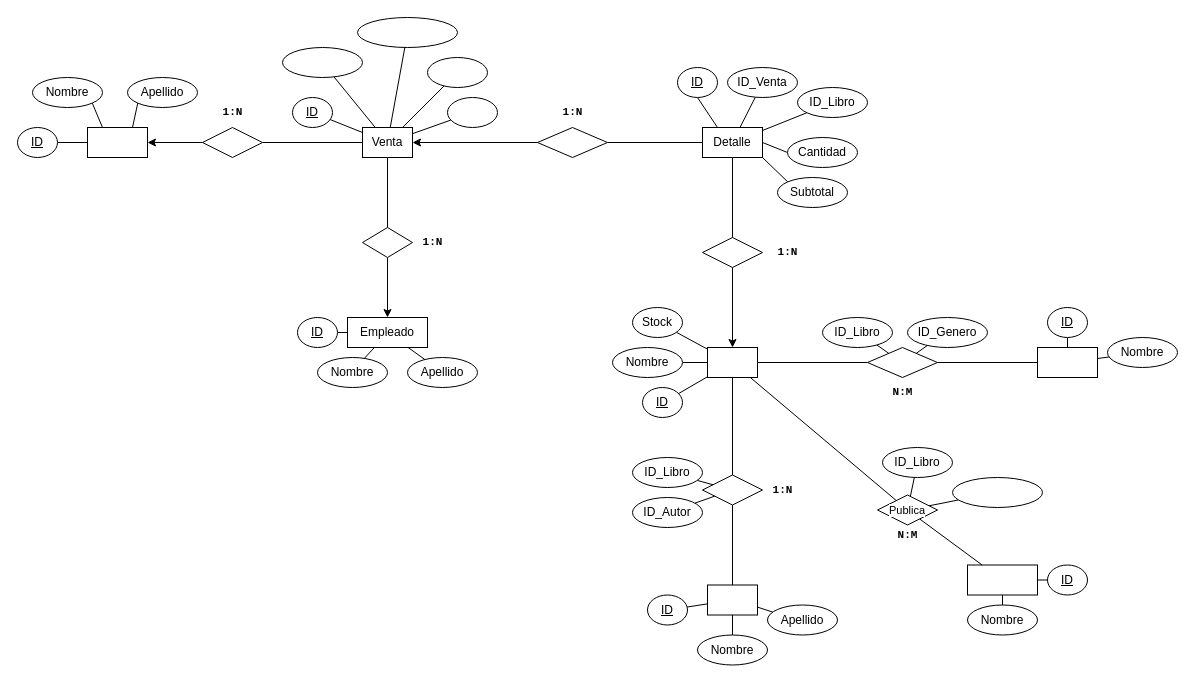
Image size: 1195x683. Some labels were removed from this diagram. The centre of each missing label's shape, as x and y in pixels:
"Autor" belongs at (732,599).
"Cliente" belongs at (117,142).
"Describe" belongs at (572,142).
"Editorial" belongs at (1002,579).
"Escribe" belongs at (732,489).
"Fecha" belongs at (457,72).
"Genero" belongs at (1067,362).
"Hace" belongs at (387,242).
"ID_Cliente" belongs at (322,62).
"ID_Editorial" belongs at (997,492).
"ID_Empleado" belongs at (407,32).
"Libro" belongs at (732,362).
"Pertenece" belongs at (902,362).
"Realiza" belongs at (232,142).
"Registra" belongs at (732,252).
"Total" belongs at (472,112).
